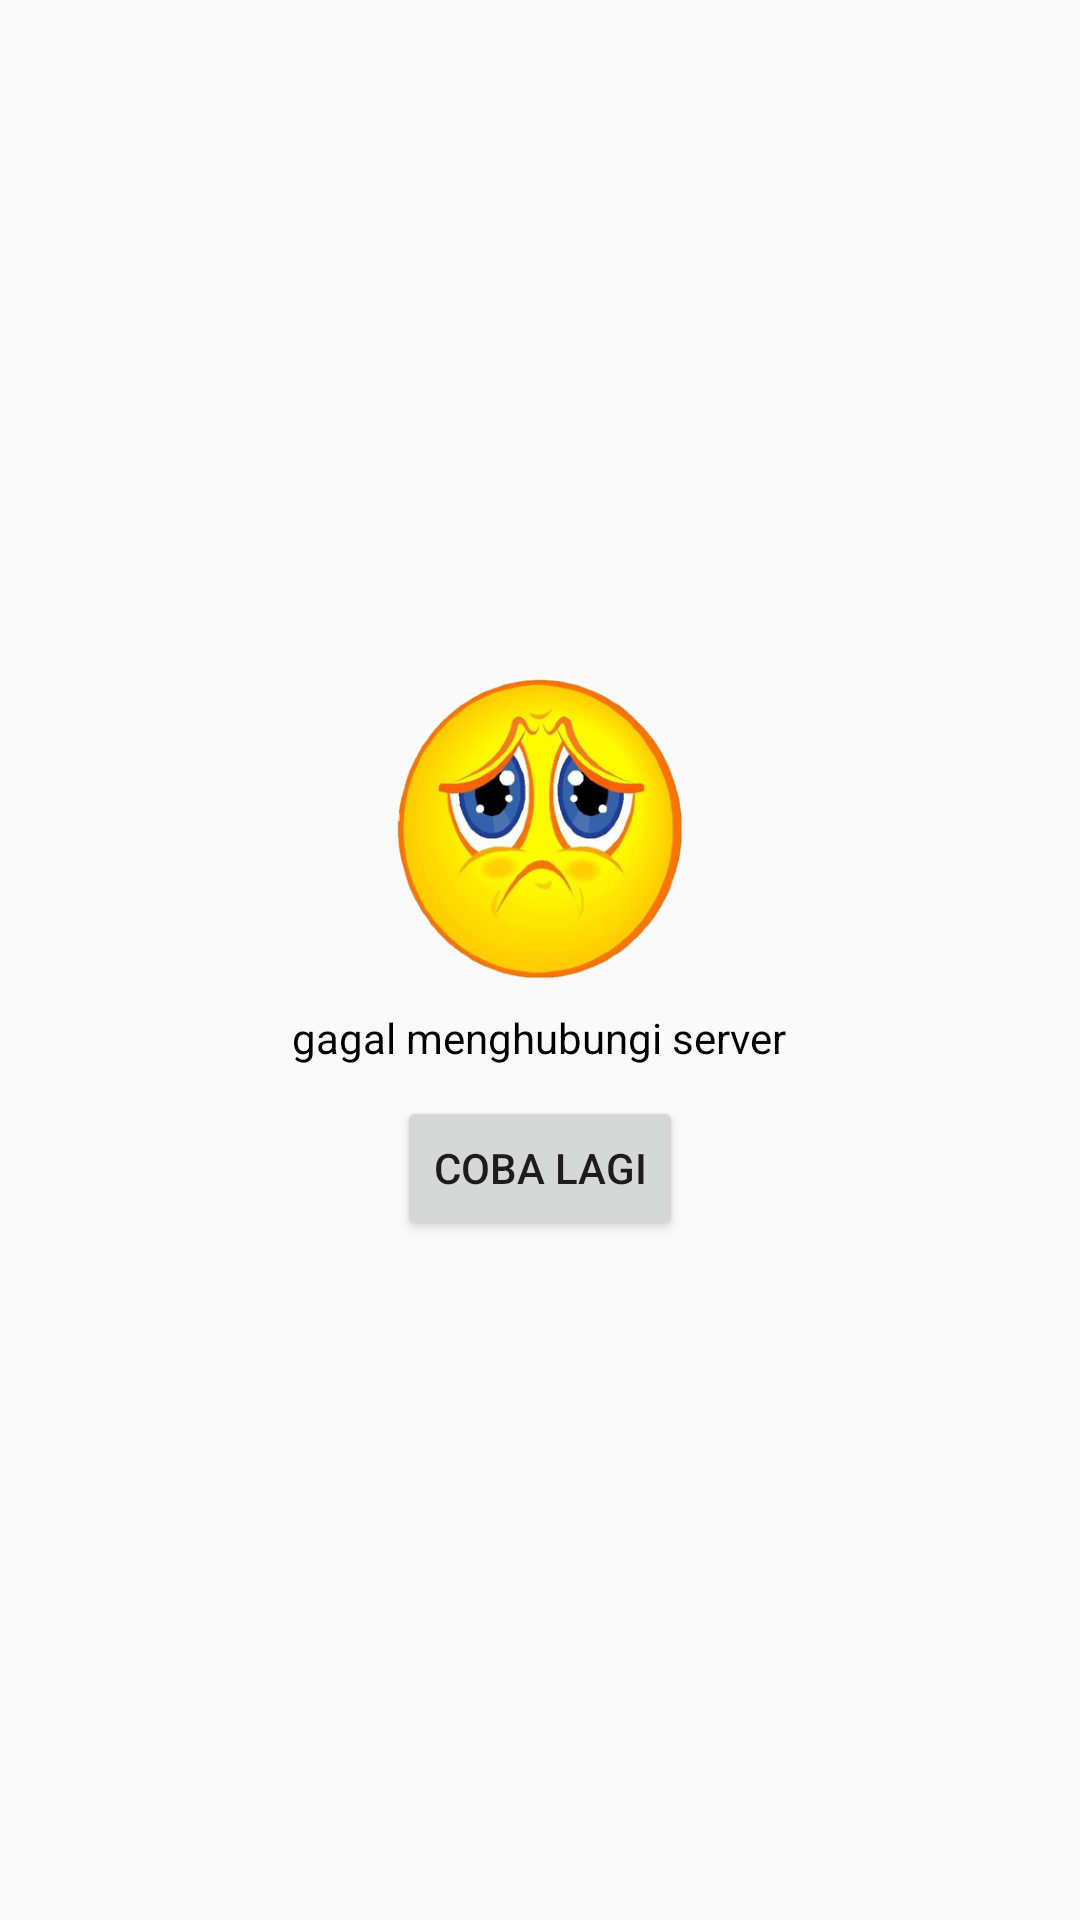

Named icons in this screenshot (1080 x 1920) and their centers, [x,y]:
sad: [539,829]
